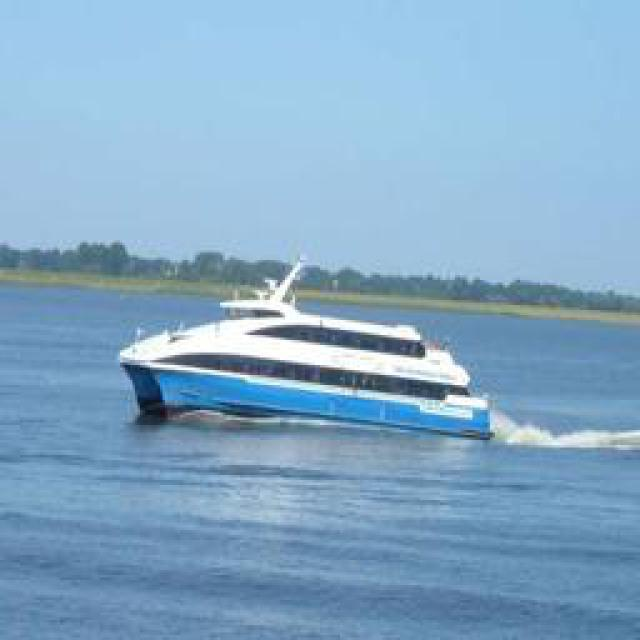Ship: (117, 260, 489, 450)
